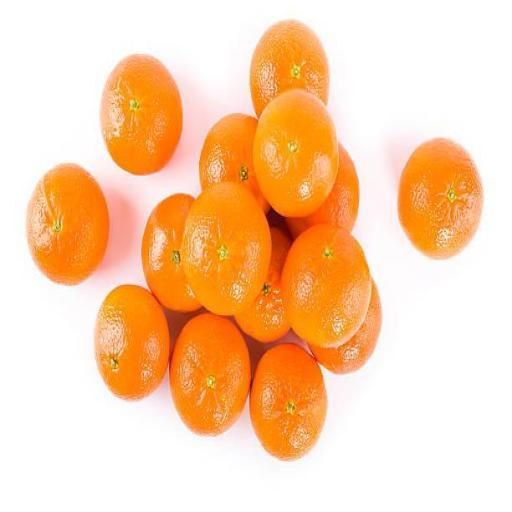orange: (182, 182, 271, 314), (282, 225, 371, 347), (253, 90, 337, 217), (399, 139, 483, 258), (26, 164, 108, 284), (169, 314, 250, 435), (101, 54, 182, 174), (250, 344, 327, 460), (95, 285, 169, 400), (251, 21, 329, 116)
